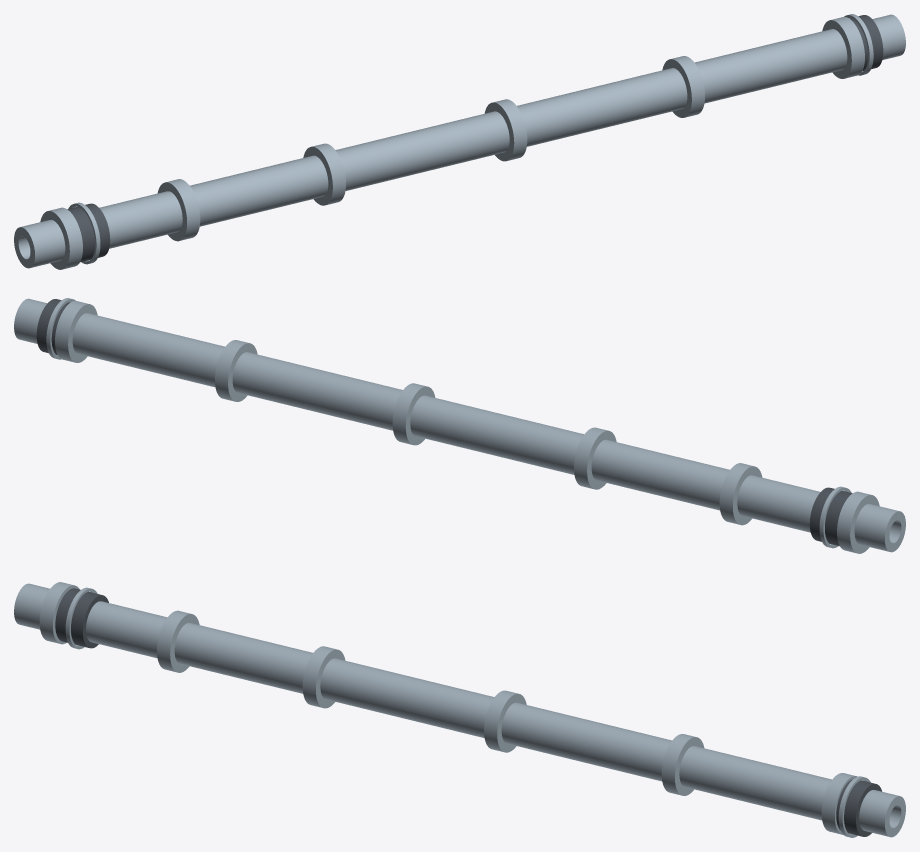
File: shaft-single-spool.glb
3 views of the same model, one above another, from view 1: azimuth 30°, elevation 25°; view 2: azimuth 150°, elevation 25°; view 3: azimuth 330°, elevation 25° (orthographic).
Parts seen in each view (by area): view 1: shaft-single-spool - steel, shaft-single-spool - seal; view 2: shaft-single-spool - steel, shaft-single-spool - seal; view 3: shaft-single-spool - steel, shaft-single-spool - seal.
Boxes of the visible parts, <box> form: shaft-single-spool - steel: <box>14,14,905,269</box>; shaft-single-spool - seal: <box>67,15,883,262</box>; shaft-single-spool - steel: <box>14,298,905,553</box>; shaft-single-spool - seal: <box>36,299,852,546</box>; shaft-single-spool - steel: <box>14,582,905,837</box>; shaft-single-spool - seal: <box>55,588,881,836</box>.
Bounding box in the file's own units: 4.9 × 0.302 × 0.3019.
